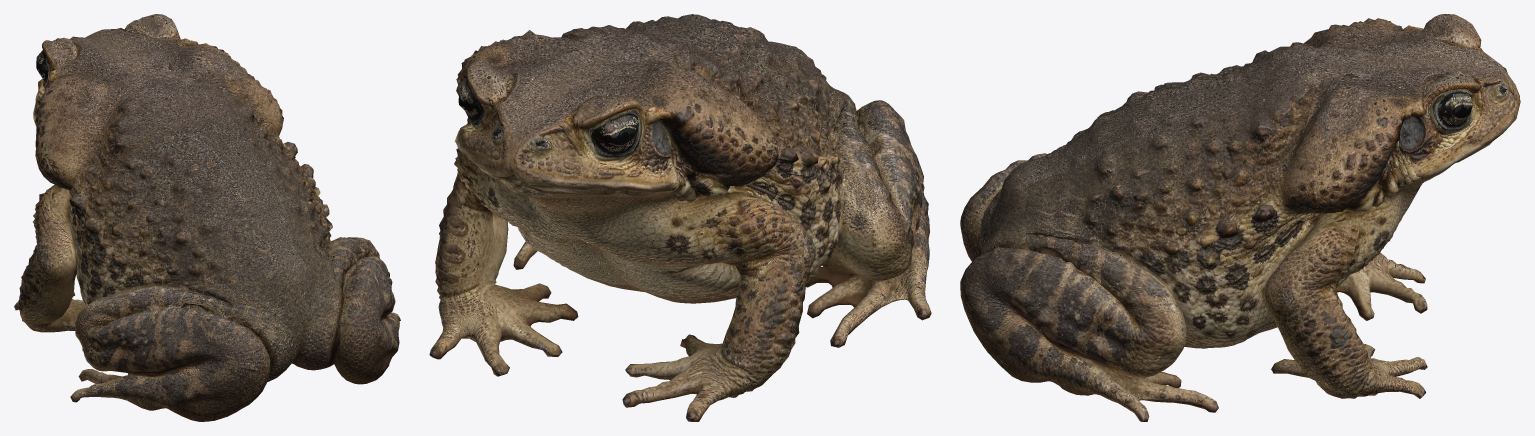
The model's file is rana.fbx.
3 renders of one model, left to right at view 1: azimuth 30°, elevation 25°; view 2: azimuth 150°, elevation 25°; view 3: azimuth 270°, elevation 25°, orthographic. The views are drawn at different scales.
Parts seen in each view (by area): view 1: tripo_node_315dbc4d; view 2: tripo_node_315dbc4d; view 3: tripo_node_315dbc4d.
Boxes of the visible parts, left/top/right/bottom form: tripo_node_315dbc4d: left=14, top=14, right=400, bottom=421; tripo_node_315dbc4d: left=429, top=14, right=931, bottom=421; tripo_node_315dbc4d: left=960, top=14, right=1520, bottom=421.
Size of the model in its own units: 0.7864 by 0.5685 by 0.9801.
